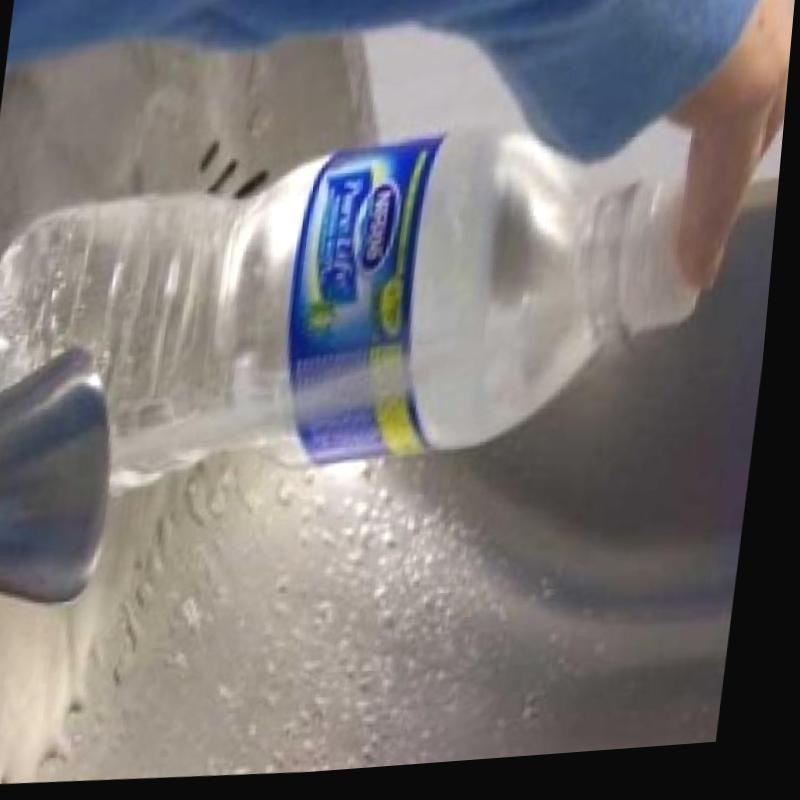botella: (0, 104, 730, 522)
